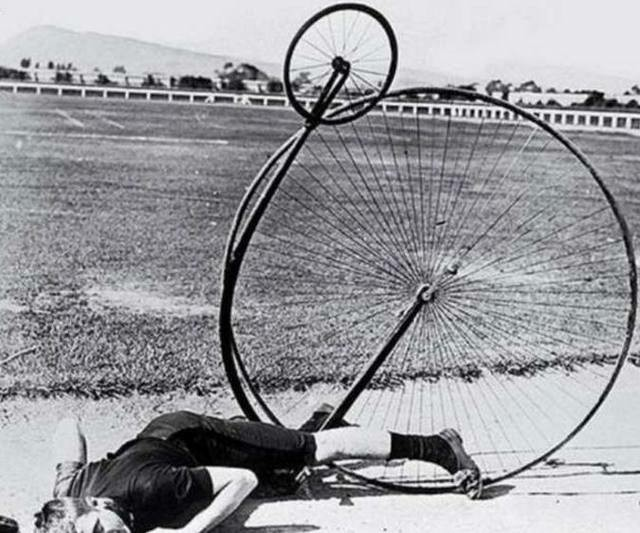down: (22, 400, 487, 533)
